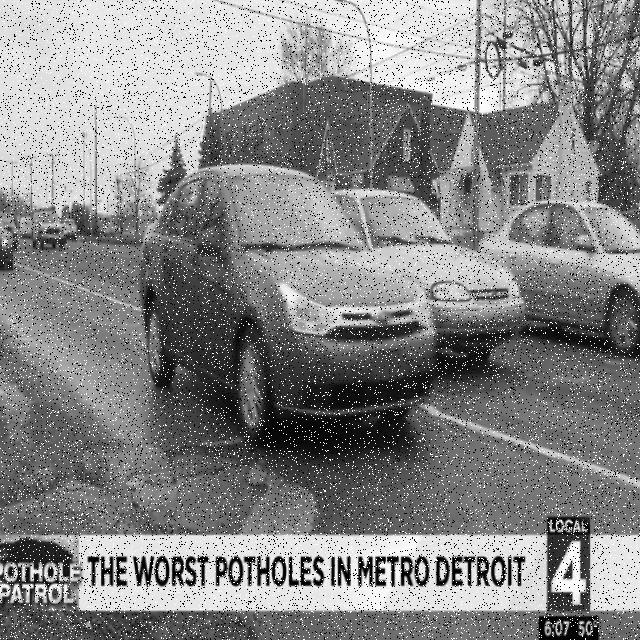pothole: (87, 444, 313, 537)
